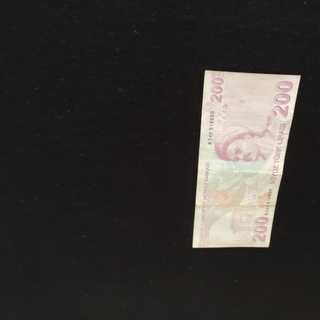200TLBack: (192, 69, 301, 248)
